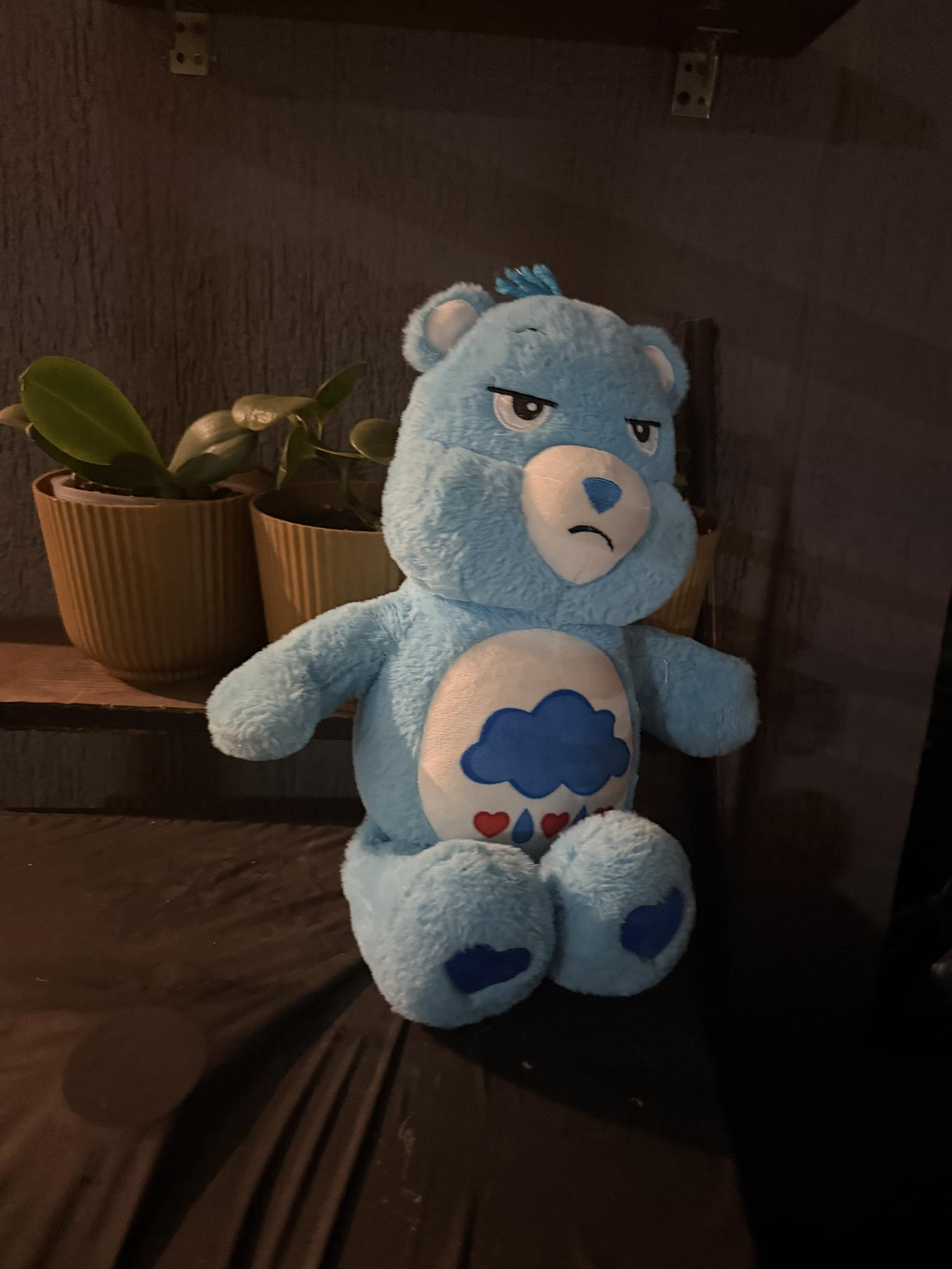peluche_Juan Jose: (202, 264, 764, 1029)
